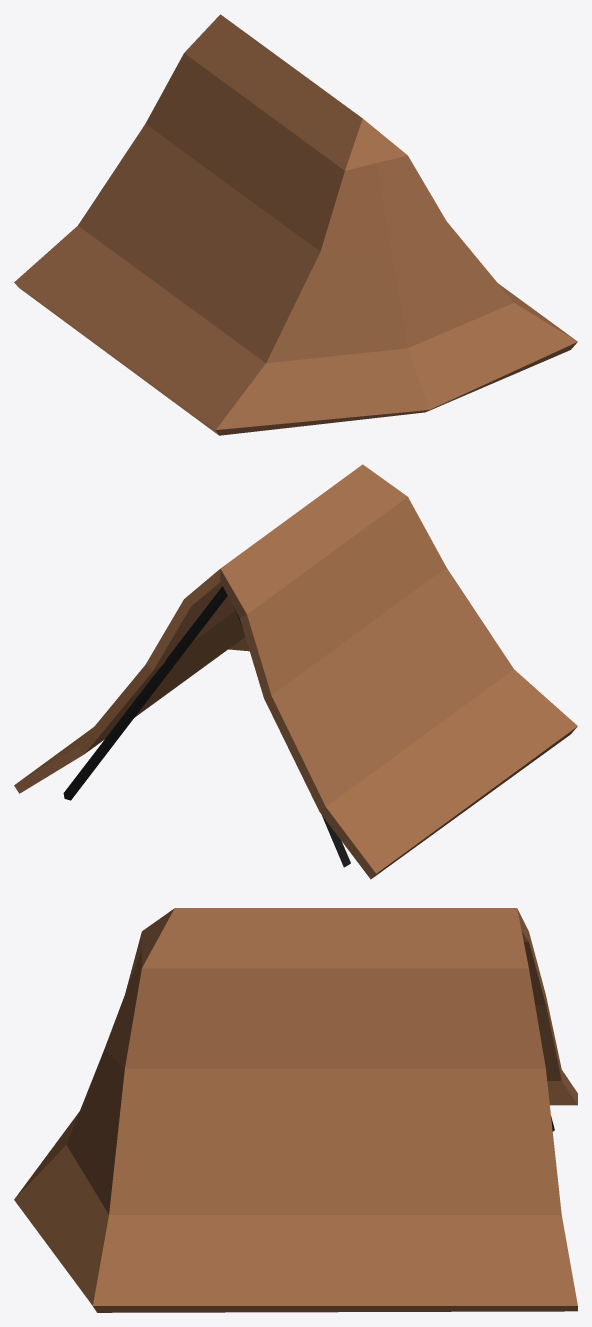
Rendered from Tent.glb.
3 renders of one model, top to bottom at view 1: azimuth 30°, elevation 25°; view 2: azimuth 150°, elevation 25°; view 3: azimuth 270°, elevation 25°, orthographic. The views are drawn at different scales.
Parts seen in each view (by area): view 1: Cube; view 2: Cube, Cylinder; view 3: Cube.
Boxes of the visible parts, x1,y1,x2,y2 form: Cube: (14, 14, 577, 435); Cube: (14, 464, 577, 879); Cylinder: (63, 586, 350, 867); Cube: (14, 908, 577, 1312).
Size of the model in its own units: 2.07 by 1.4 by 2.32.
